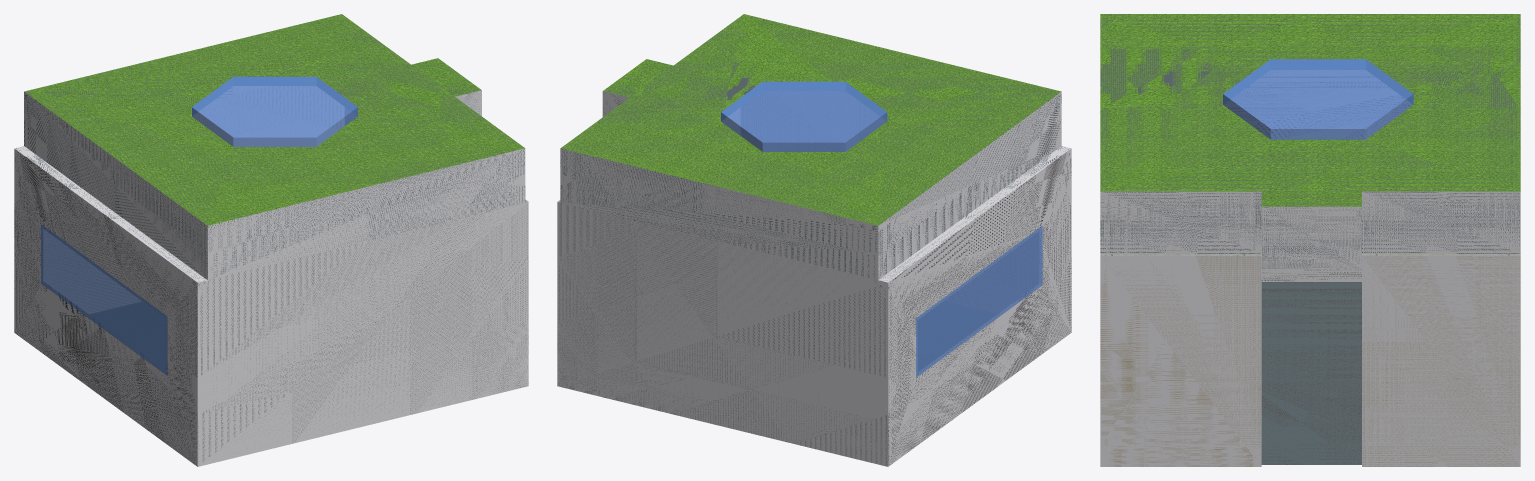
The model's file is ThinWallRmFinal.glb.
3 renders of one model, left to right at view 1: azimuth 30°, elevation 25°; view 2: azimuth 150°, elevation 25°; view 3: azimuth 270°, elevation 25°, orthographic. The views are drawn at different scales.
Visible parts, largest first — view 1: Asset3DLoader.sceneRoot; view 2: Asset3DLoader.sceneRoot; view 3: Asset3DLoader.sceneRoot.
Part boxes in pixels (box(x1,y1,x2,y2)): Asset3DLoader.sceneRoot: box(14, 14, 528, 466); Asset3DLoader.sceneRoot: box(557, 14, 1071, 466); Asset3DLoader.sceneRoot: box(1100, 14, 1520, 466).
Size of the model in its own units: 341 by 228 by 305.
Materials: 10 (8 with a texture image).
